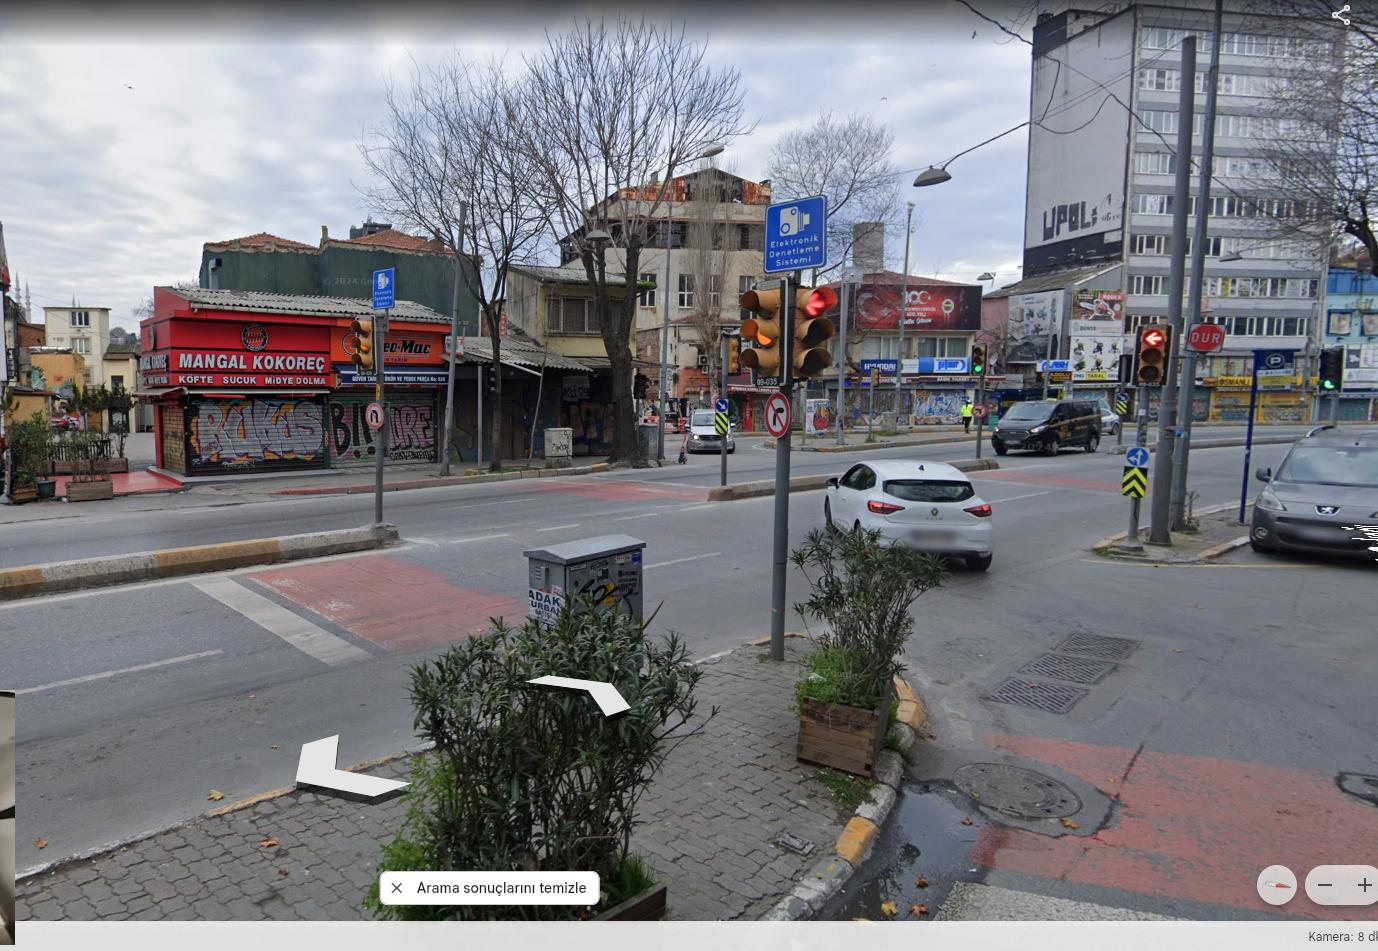greenlight: (1319, 346, 1342, 396), (971, 342, 986, 376)
leftturnsareforbidden: (971, 404, 986, 419)
redlight: (792, 280, 830, 373), (1139, 324, 1169, 388)
rightturnsareforbidden: (766, 397, 788, 432)
stop: (1187, 323, 1223, 352)
yellowlight: (747, 283, 785, 380)
